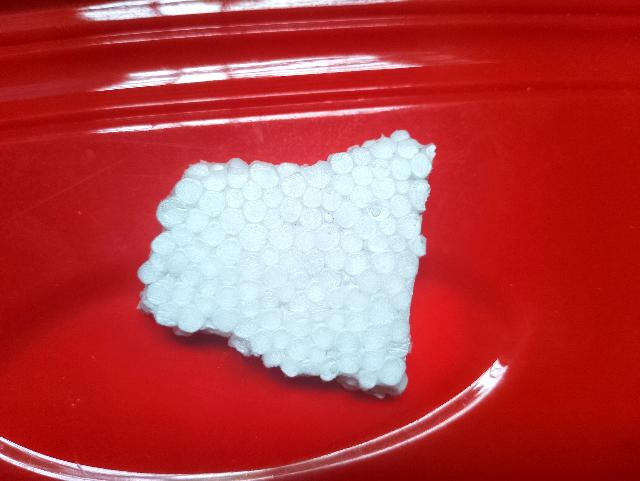cocksheet: (137, 90, 437, 403)
